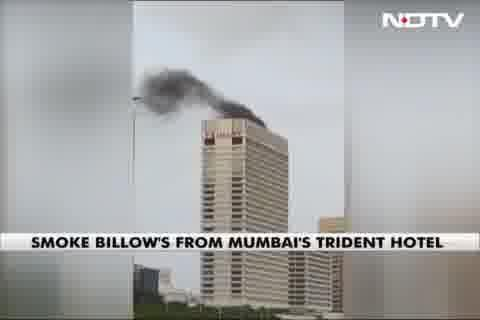smoke: (145, 74, 196, 106), (213, 99, 246, 119)
